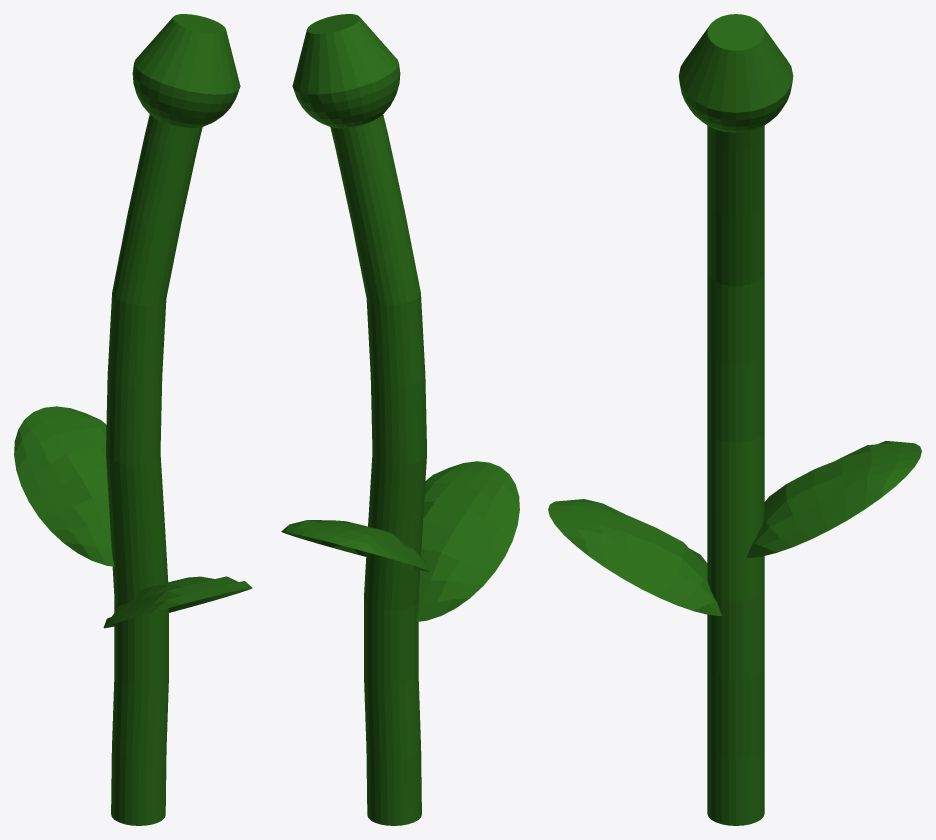
The model's file is FlowerBottom.glb.
3 views of the same model, side by side, from view 1: azimuth 30°, elevation 25°; view 2: azimuth 150°, elevation 25°; view 3: azimuth 270°, elevation 25° (orthographic). The views are drawn at different scales.
Parts seen in each view (by area): view 1: Bud; view 2: Bud; view 3: Bud.
Boxes of the visible parts, <box> form: Bud: <box>14,14,252,825</box>; Bud: <box>281,14,519,825</box>; Bud: <box>548,14,921,825</box>.
Size of the model in its own units: 0.335 by 1.56 by 0.6467.
